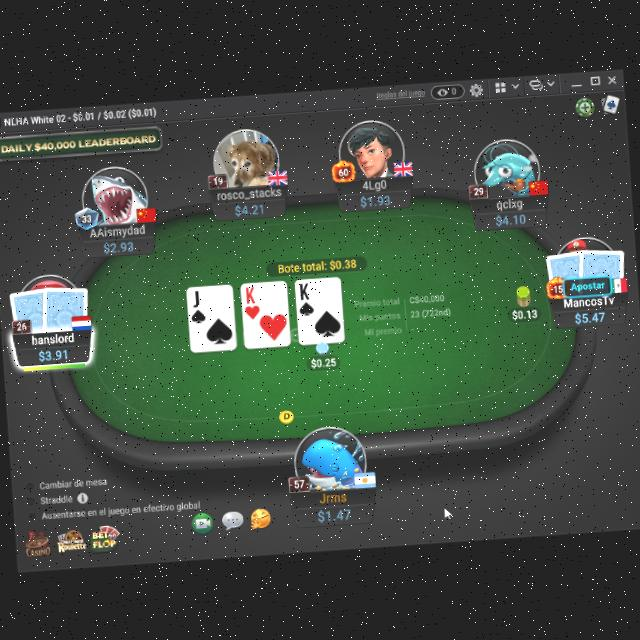Js: (188, 284, 208, 323)
Kh: (242, 281, 261, 318)
Ks: (296, 279, 315, 315)
bet_text: (308, 352, 338, 368), (510, 304, 538, 318)
card_back: (39, 279, 92, 332), (574, 242, 626, 293), (6, 282, 53, 334), (544, 245, 588, 294)
dealer: (276, 404, 296, 423)
pot_text: (276, 255, 358, 273)
stack_text: (314, 502, 353, 522), (232, 198, 266, 215), (100, 235, 134, 252), (358, 190, 392, 207), (494, 207, 526, 224), (572, 305, 606, 321), (36, 344, 67, 360)
